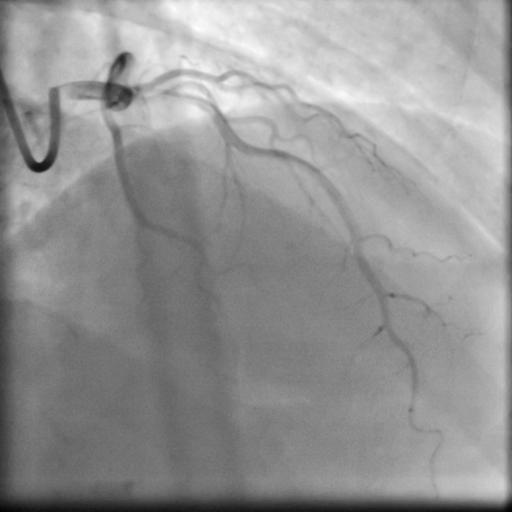Stenosis: (144, 83, 201, 104)
